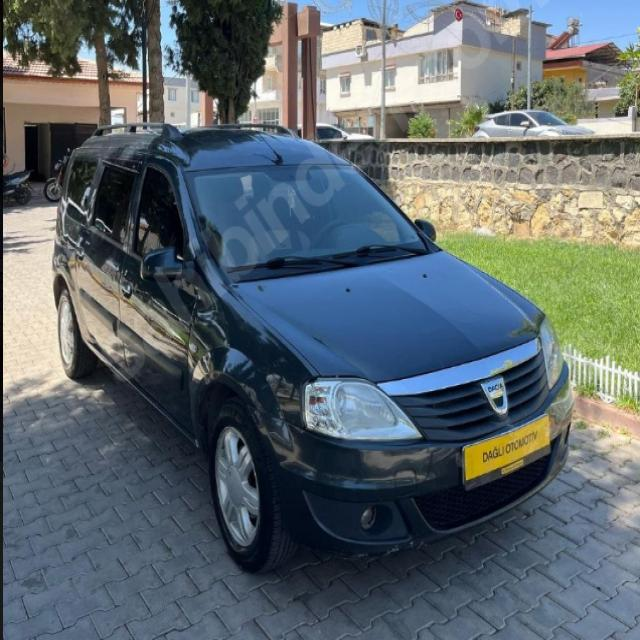dacia: (479, 374, 512, 418)
